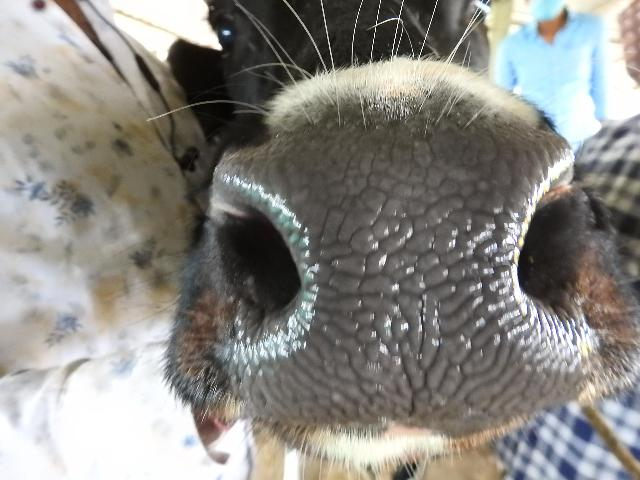Muzzle: (235, 151, 562, 400)
